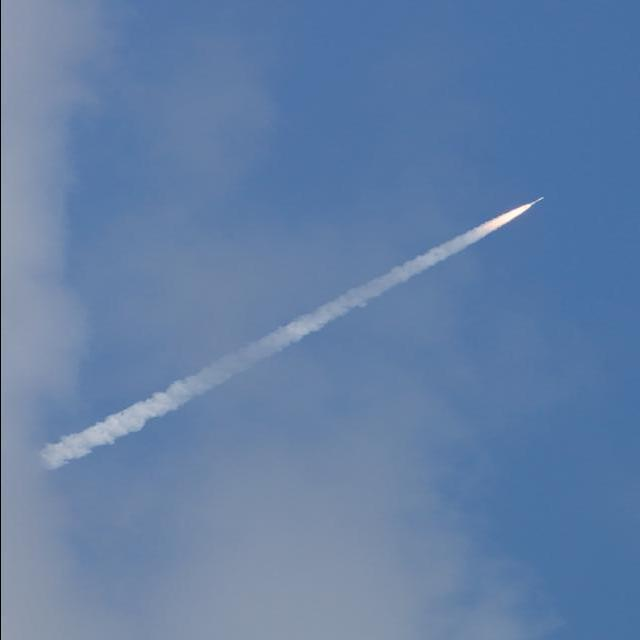Missile: (525, 196, 545, 207)
